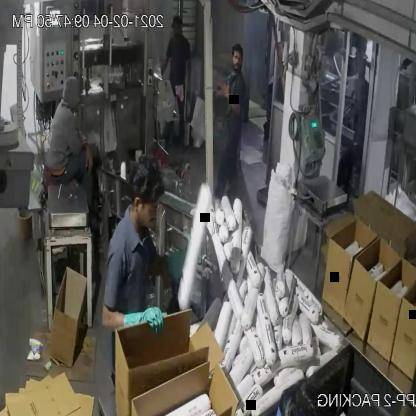glove: (158, 221, 210, 291), (119, 292, 166, 342)
no_glove: (78, 132, 101, 182), (151, 38, 175, 84), (221, 78, 243, 118), (180, 53, 195, 109)
